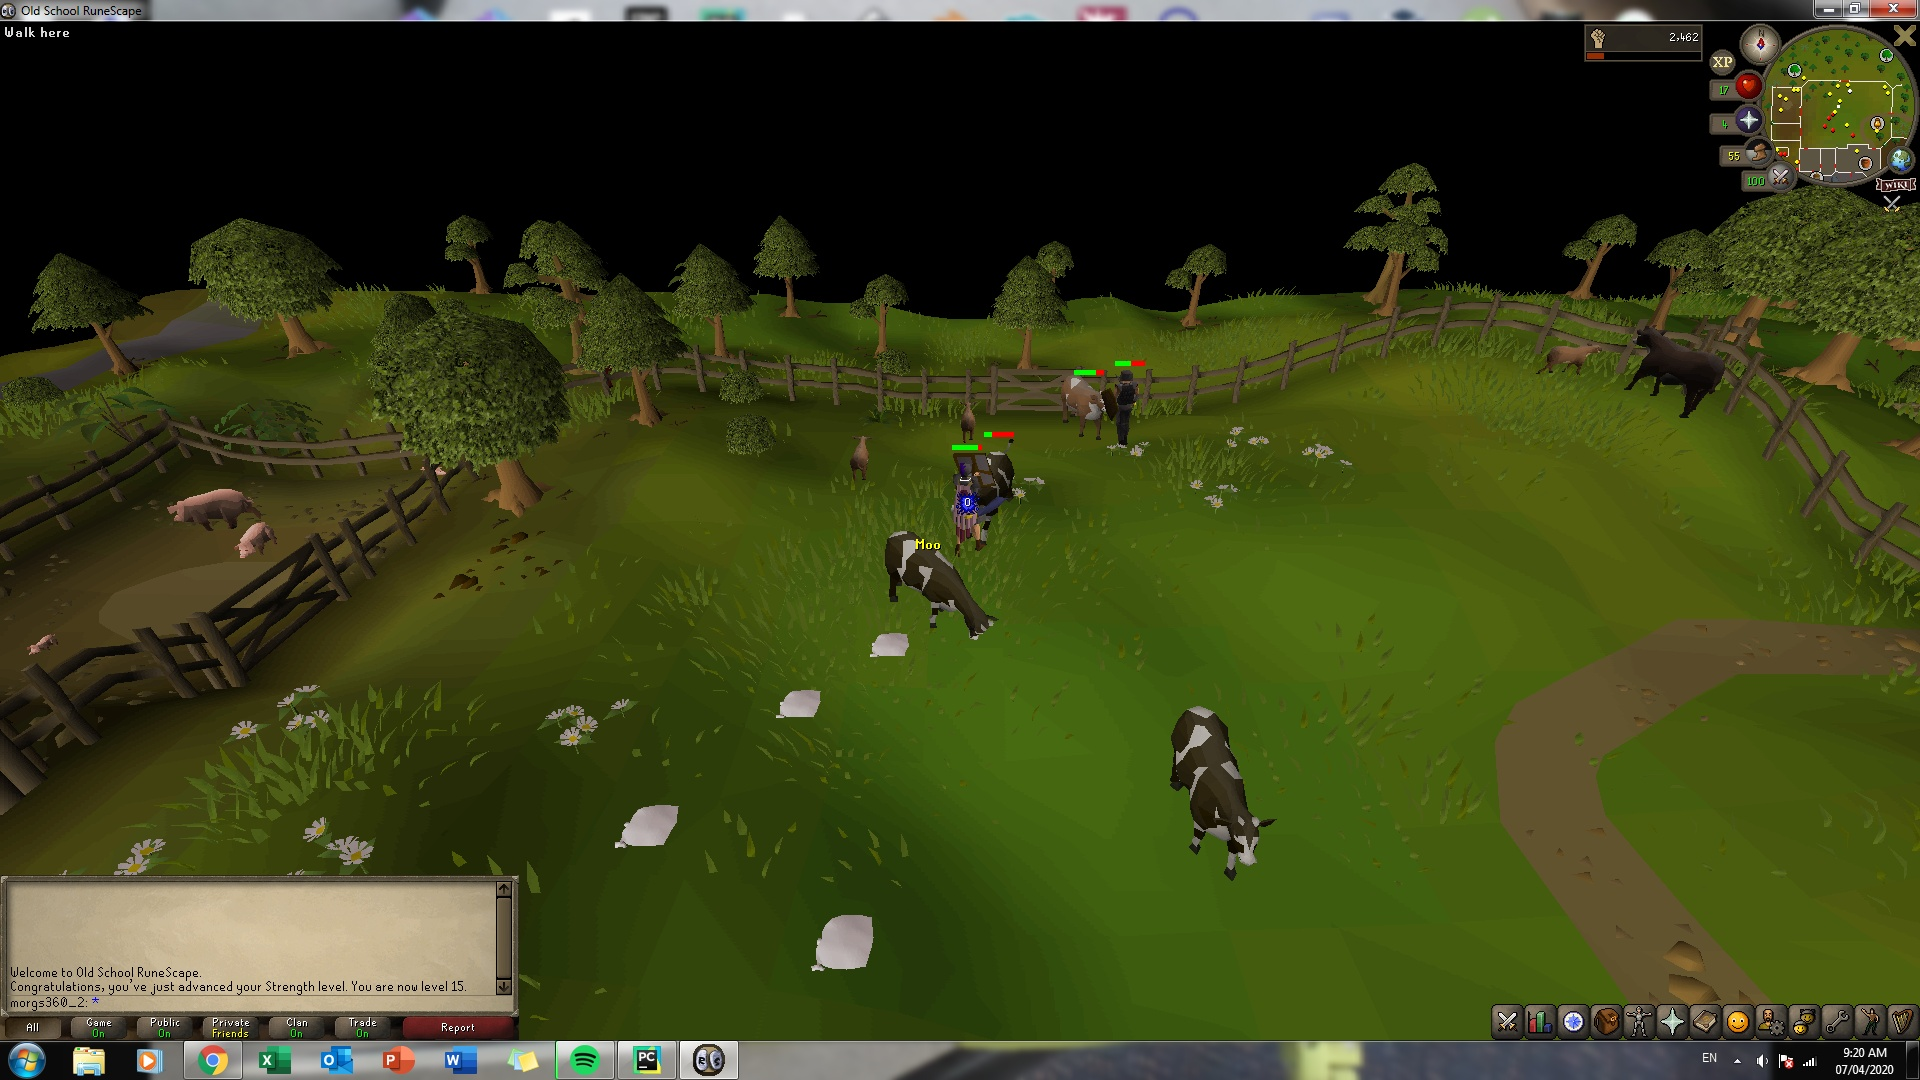cow: (1164, 694, 1270, 882), (881, 547, 998, 642), (1625, 319, 1726, 422), (1053, 374, 1109, 436), (1540, 337, 1601, 381), (977, 451, 1018, 513), (848, 430, 873, 478), (957, 395, 980, 440)
player: (942, 460, 990, 549)
